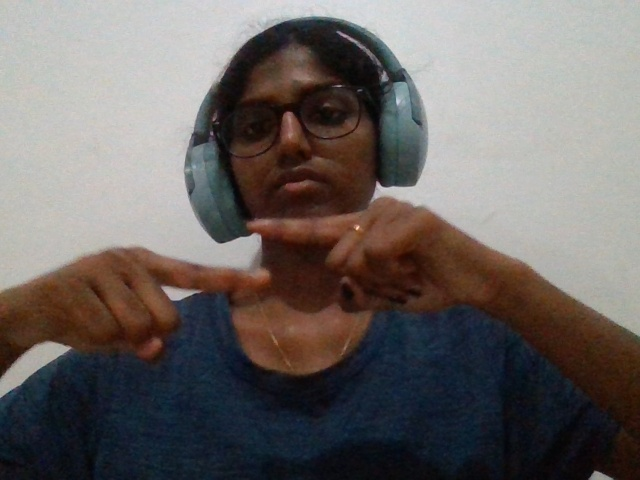Sign: (5, 204, 593, 374)
